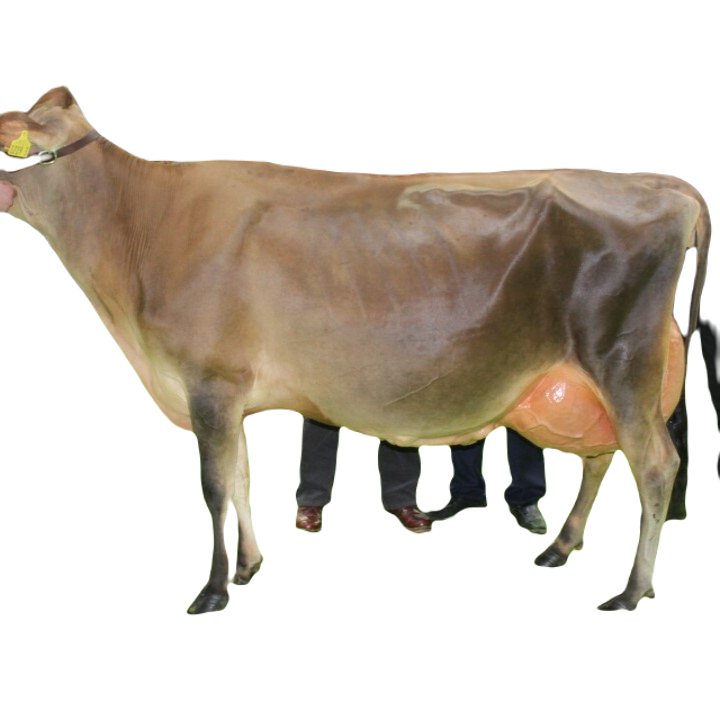Cow: (1, 84, 717, 617)
